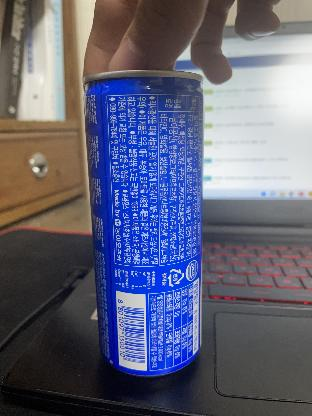Can: (85, 65, 208, 383)
